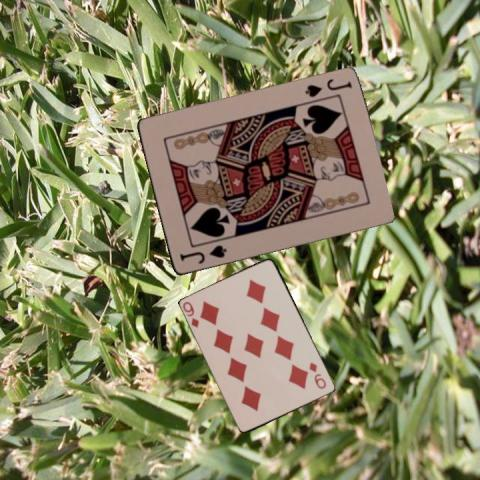9d: (306, 359, 328, 391), (180, 299, 201, 329)
Js: (301, 76, 354, 99), (176, 242, 228, 265)
